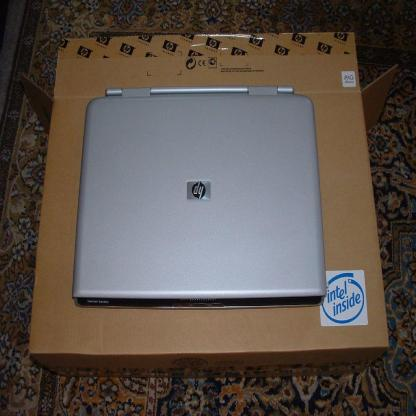board: (70, 82, 328, 306)
